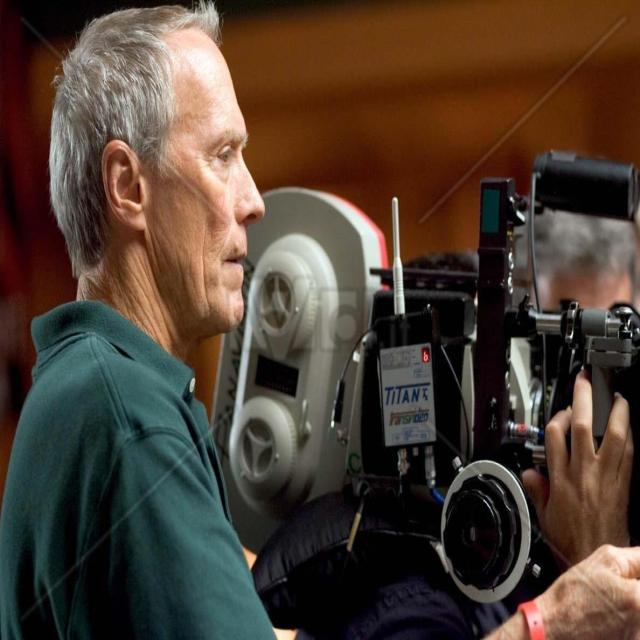no-earmuff: (101, 138, 146, 230)
